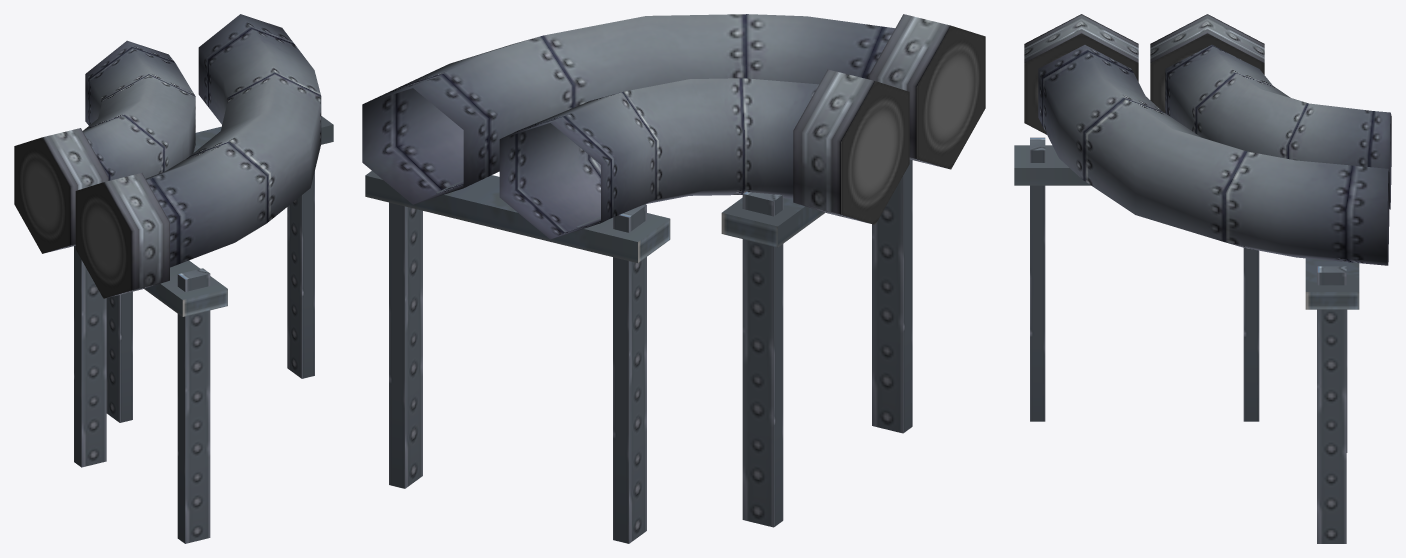
Rendered from Pipe1B.fbx.
3 views of the same model, side by side, from view 1: azimuth 30°, elevation 25°; view 2: azimuth 150°, elevation 25°; view 3: azimuth 270°, elevation 25° (orthographic). The views are drawn at different scales.
Visible parts, largest first — view 1: polySurface1603; view 2: polySurface1603; view 3: polySurface1603.
Part boxes in pixels (<box>): polySurface1603: <box>14,14,333,543</box>; polySurface1603: <box>362,14,985,543</box>; polySurface1603: <box>1014,14,1391,543</box>.
Bounding box in the file's own units: 4.73 × 4.75 × 4.43.
